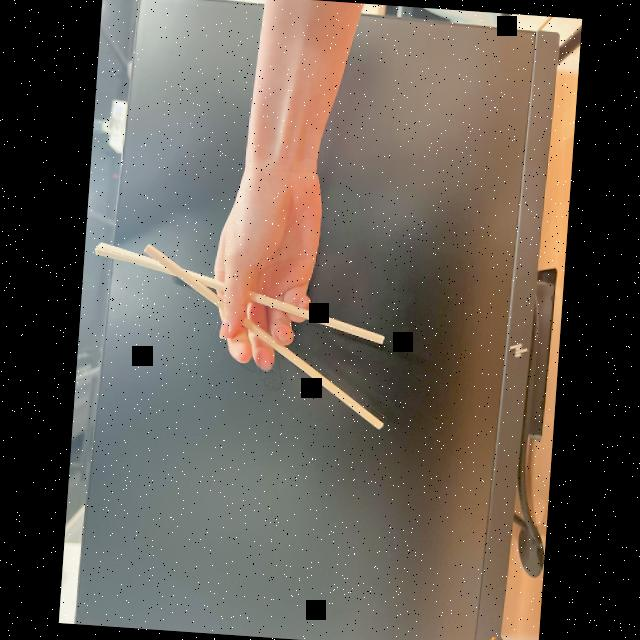stick: (105, 241, 409, 398)
